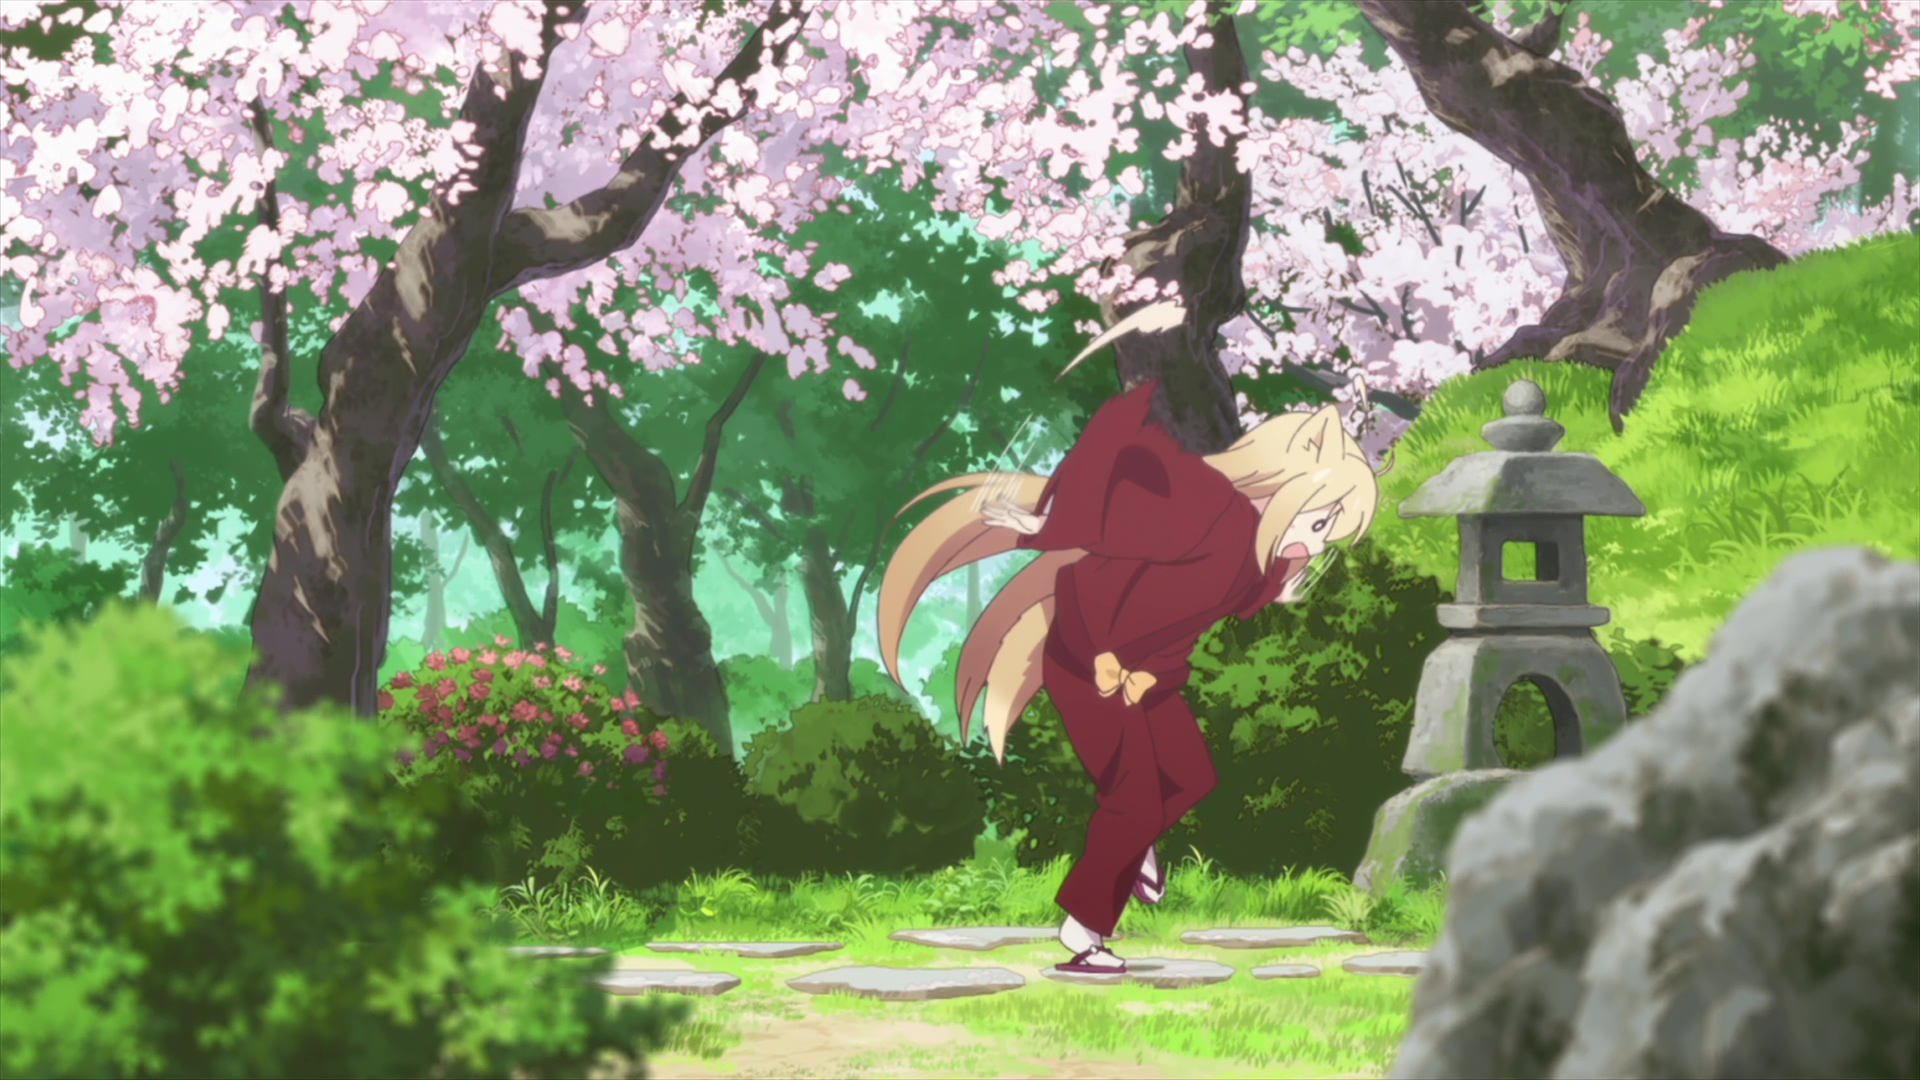柚: (876, 378, 1378, 975)
